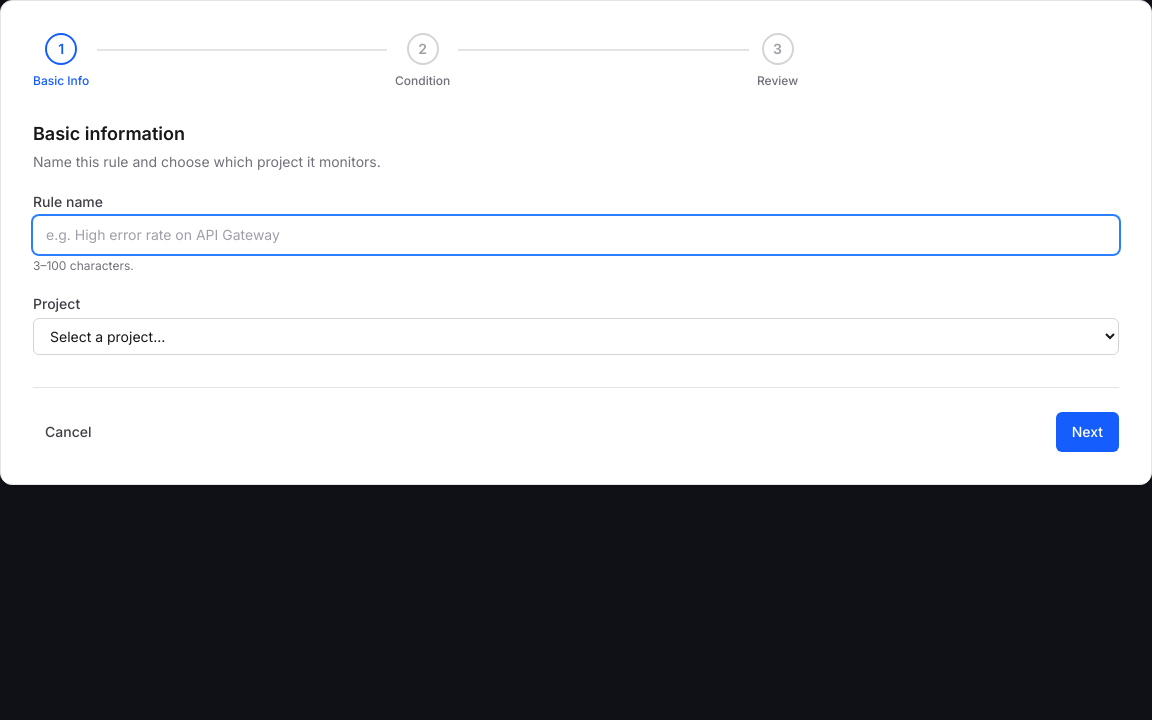
Test: AlertRuleBuilder — Step 2: Condition › switches to PatternMatch and shows pattern + log level fields
Type "High error rate" into the field labelled "Rule name" at [576, 235], box [33,216,1119,254]
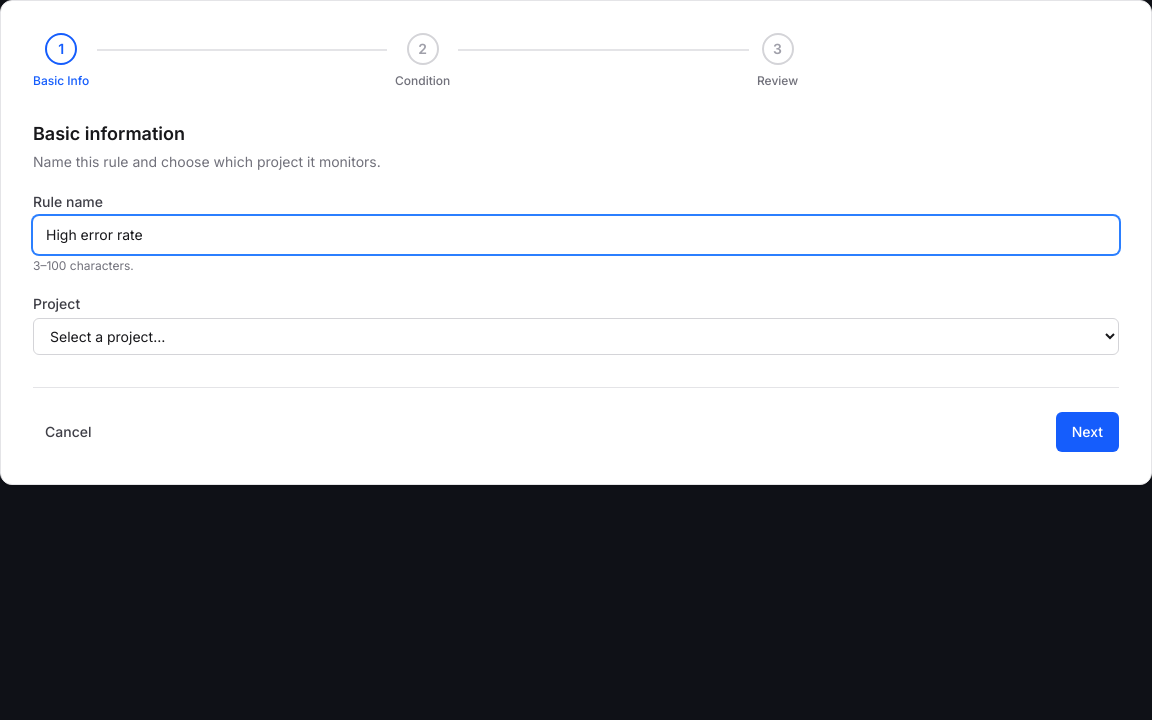
Select "API Gateway" in the dropdown labelled "Project" at [576, 336], box [33,318,1119,355]
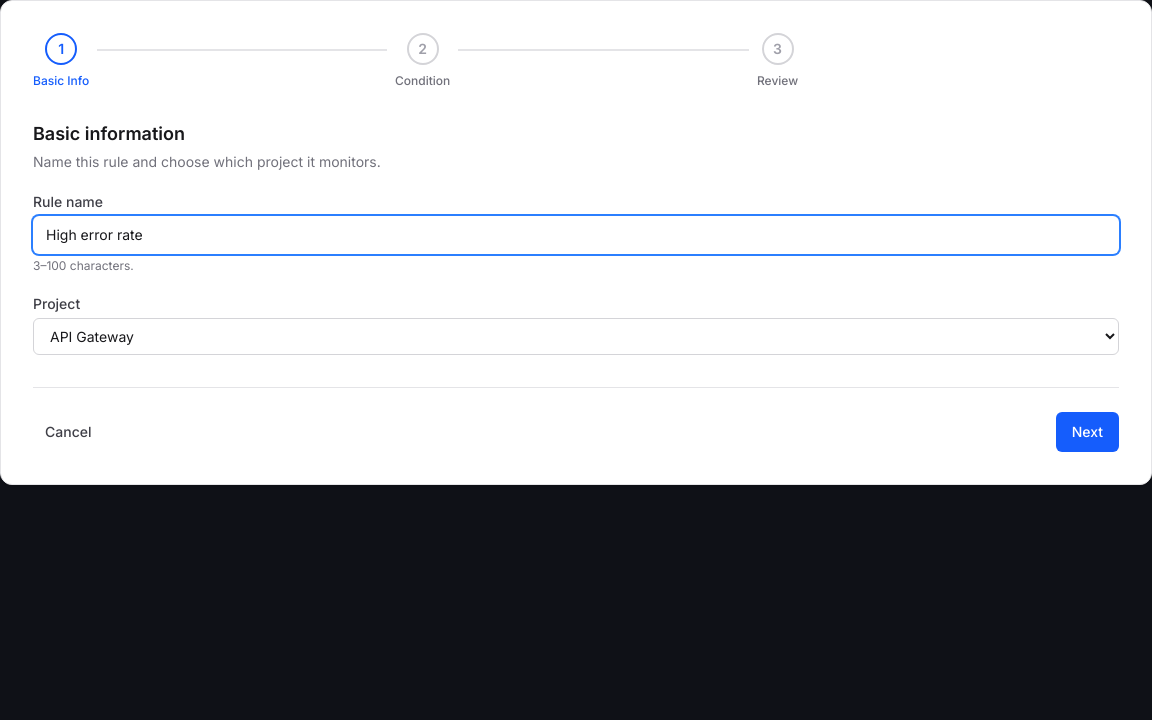
Click the button "Next" at [1087, 432], box [1056,412,1119,452]
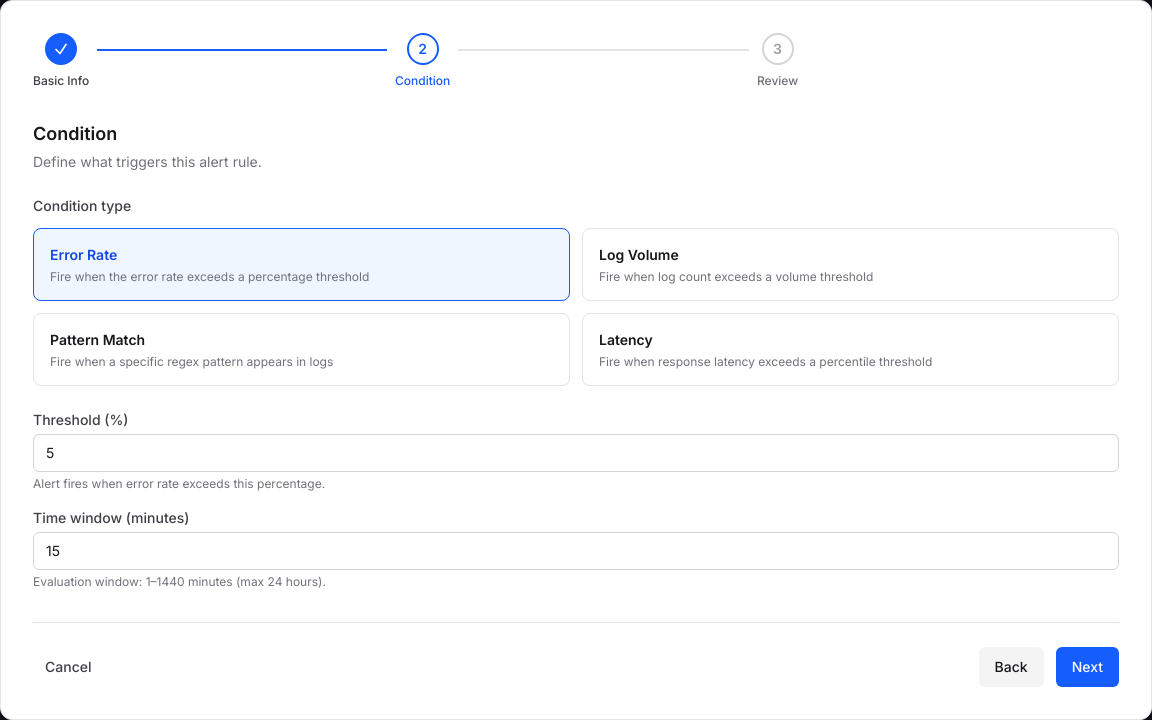
Now the text "Define what triggers this alert rule." is shown, box [33,153,262,170]
Click the radio button labelled "Pattern Match" at [98, 340], box [33,313,570,386]
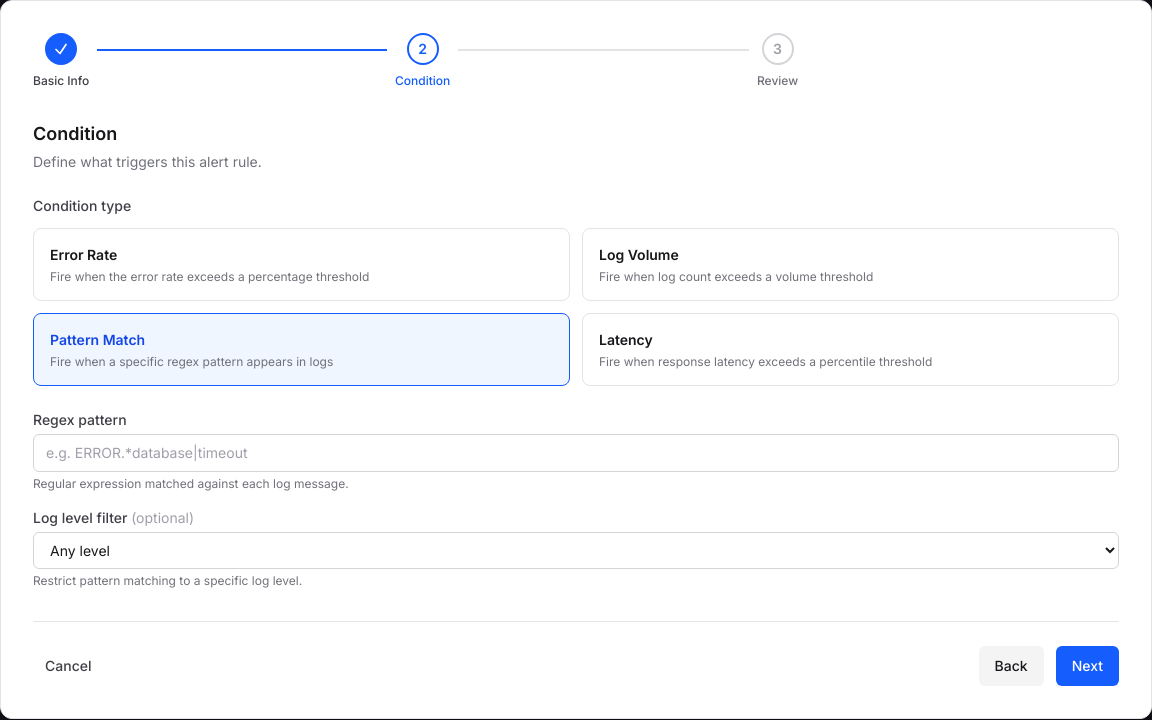
Now the field labelled "Regex pattern" is shown, box [33,434,1119,472]
Now the dropdown labelled "Log level filter (optional)" is shown, box [33,532,1119,569]
